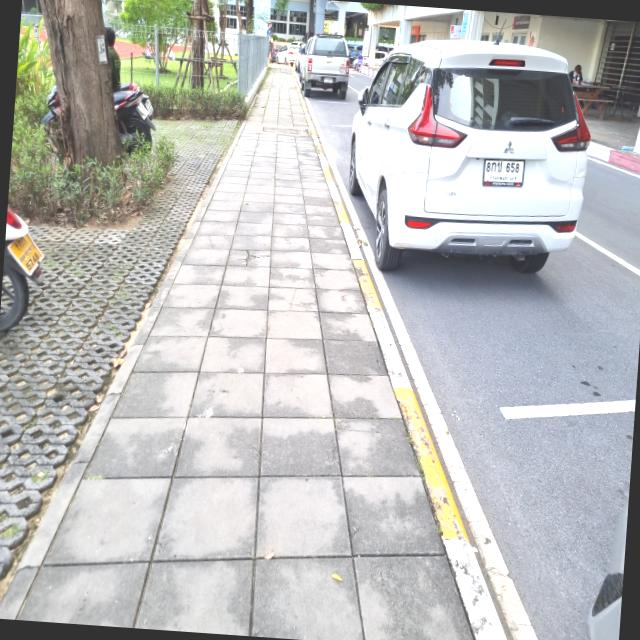license_plate: (482, 155, 527, 188), (324, 74, 334, 86)
